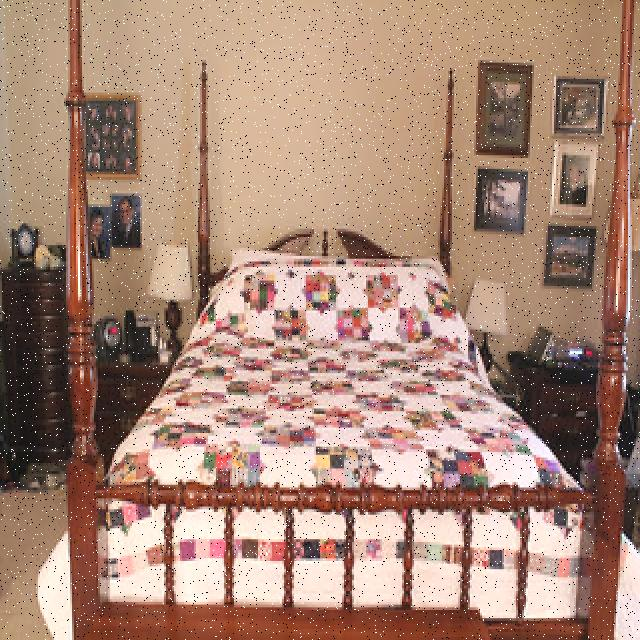bed: (100, 237, 615, 640)
